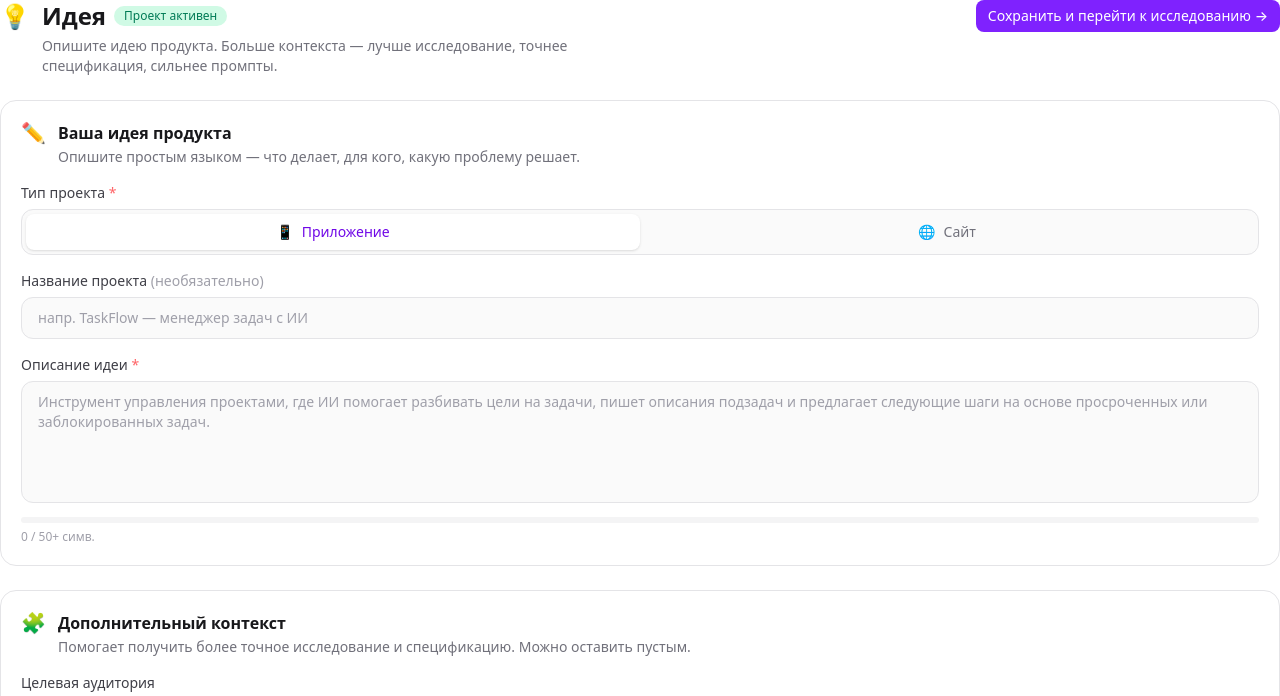
Test: C. Idea blocking — submit triggers validation errors › shows "Пожалуйста, опишите идею" after clicking continue with empty form
Note: Use getAllByText to avoid slow accessible-name computation across all buttons
Click the button "Сохранить и перейти к исследованию →".
click(1128, 16)  # box top-left (976, 0), bottom-right (1279, 32)
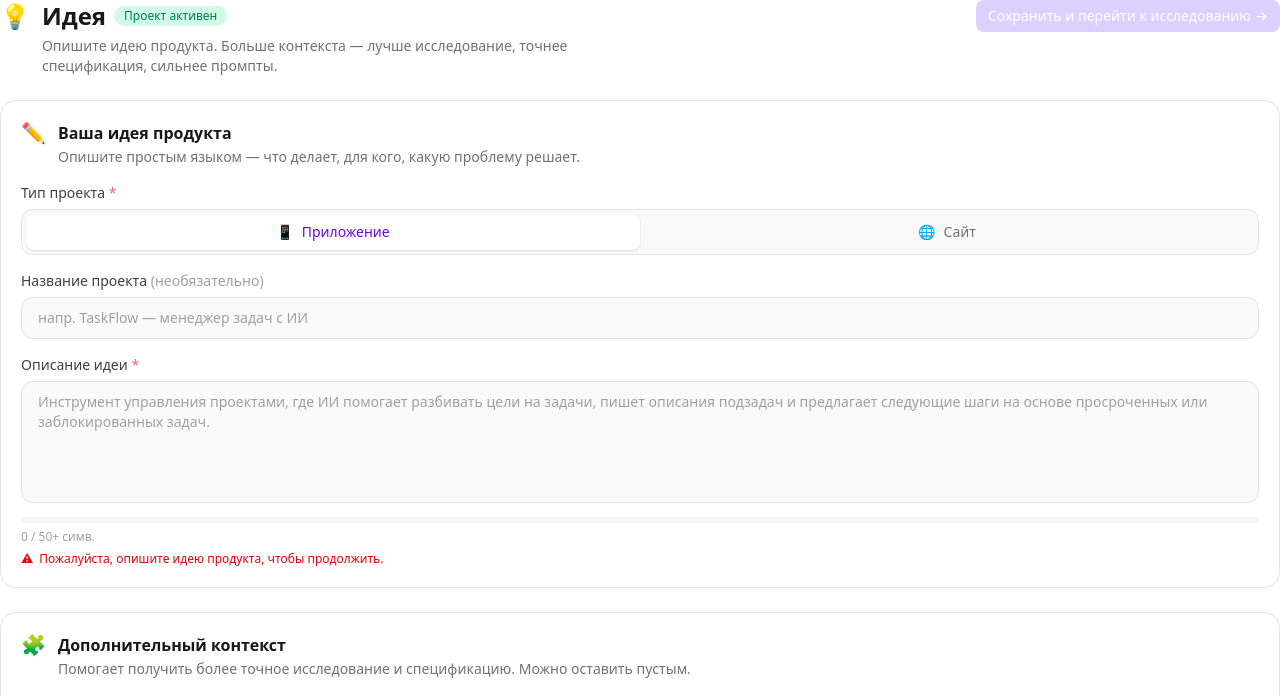
Now the text "Пожалуйста, опишите идею продукта, чтобы продолжить." is shown, box top-left (39, 550), bottom-right (384, 567)
